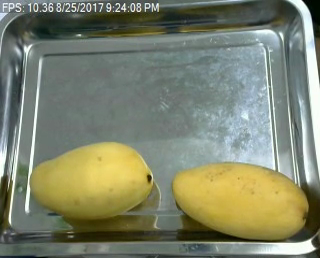Mango: (170, 161, 309, 241), (28, 139, 155, 223)
